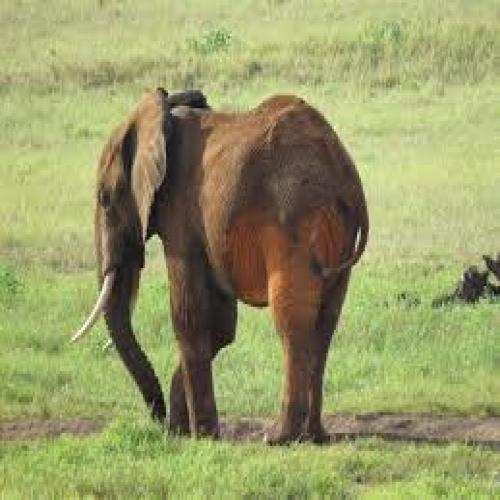asian_elephant-endangered: (73, 91, 367, 442)
